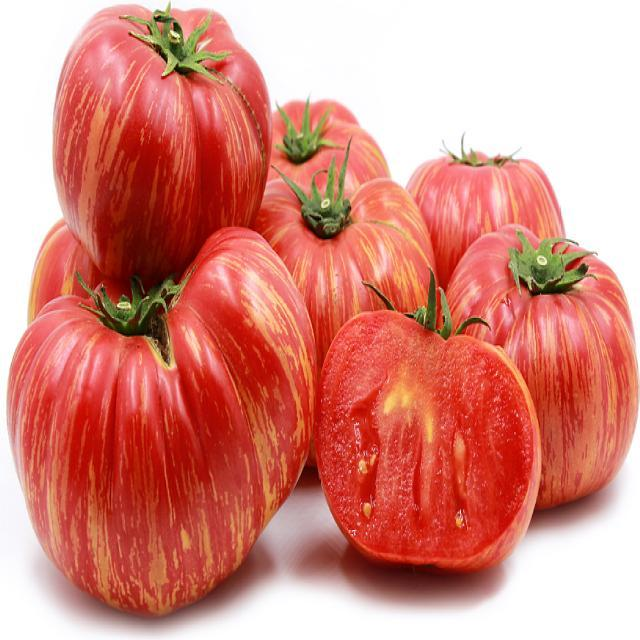kirmizi: (20, 8, 614, 620)
